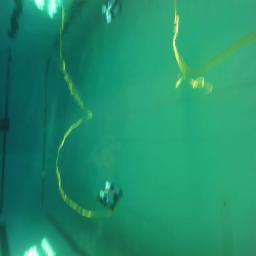Full: (98, 178, 122, 211)
